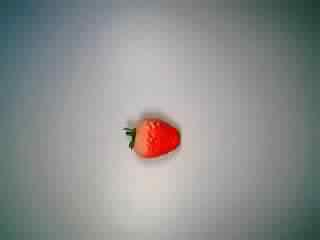strawberry: (114, 105, 182, 169)
